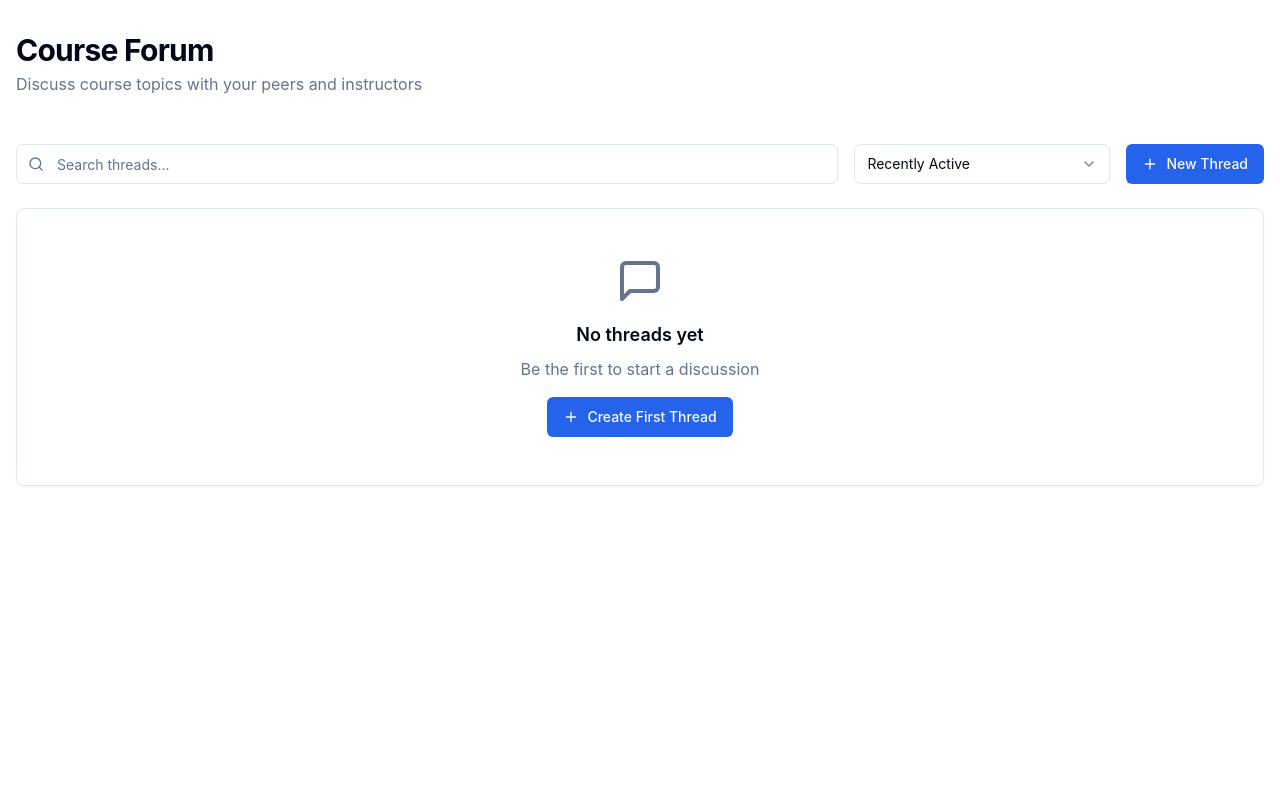
Test case: CourseForumPage › should open create thread dialog when clicking new thread button
Click the button "New Thread". click: [1195, 164]
box: [1126,144,1264,184]
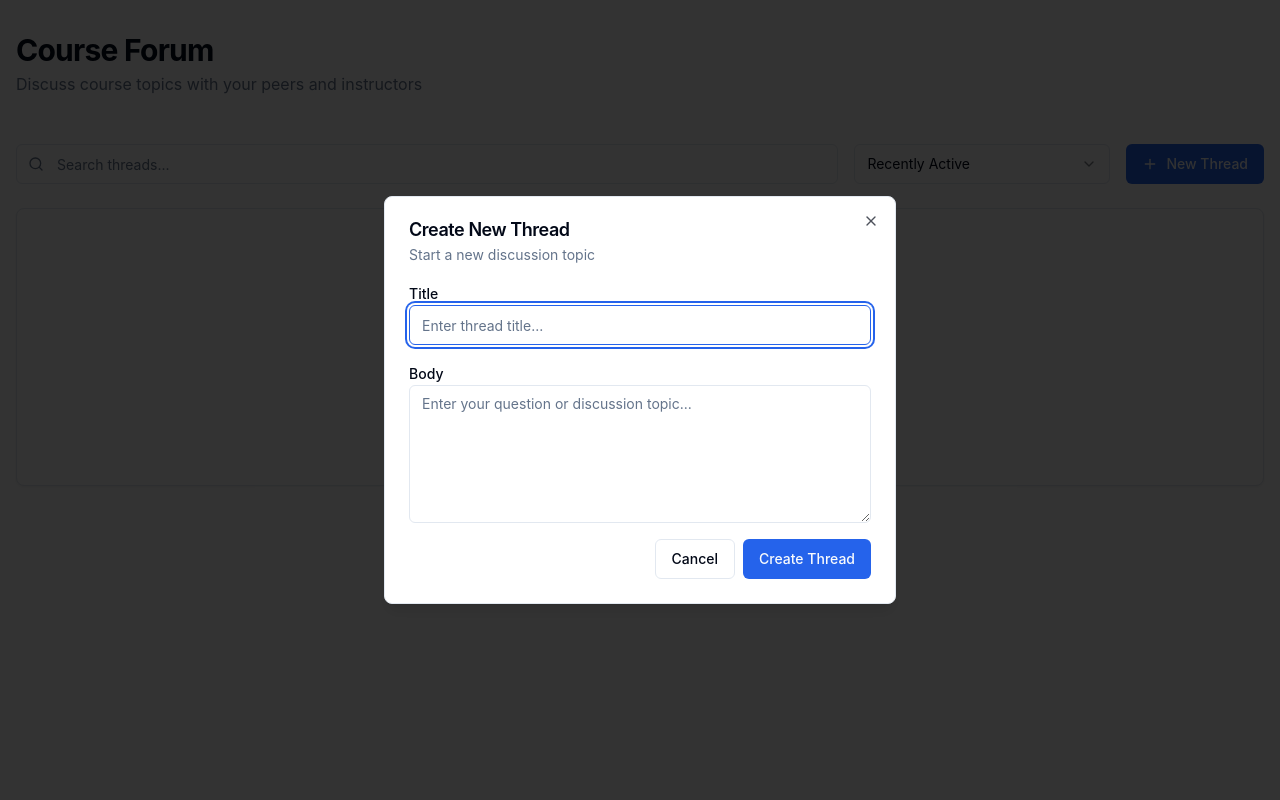
Check: the heading "Create New Thread" is shown, box [409,219,570,240]
